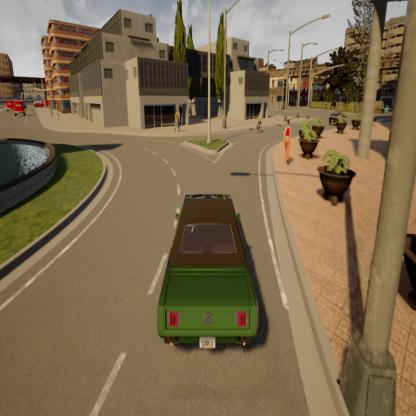Cars: (154, 160, 270, 380)
Pedestrian: (280, 115, 295, 174), (169, 102, 184, 136)
